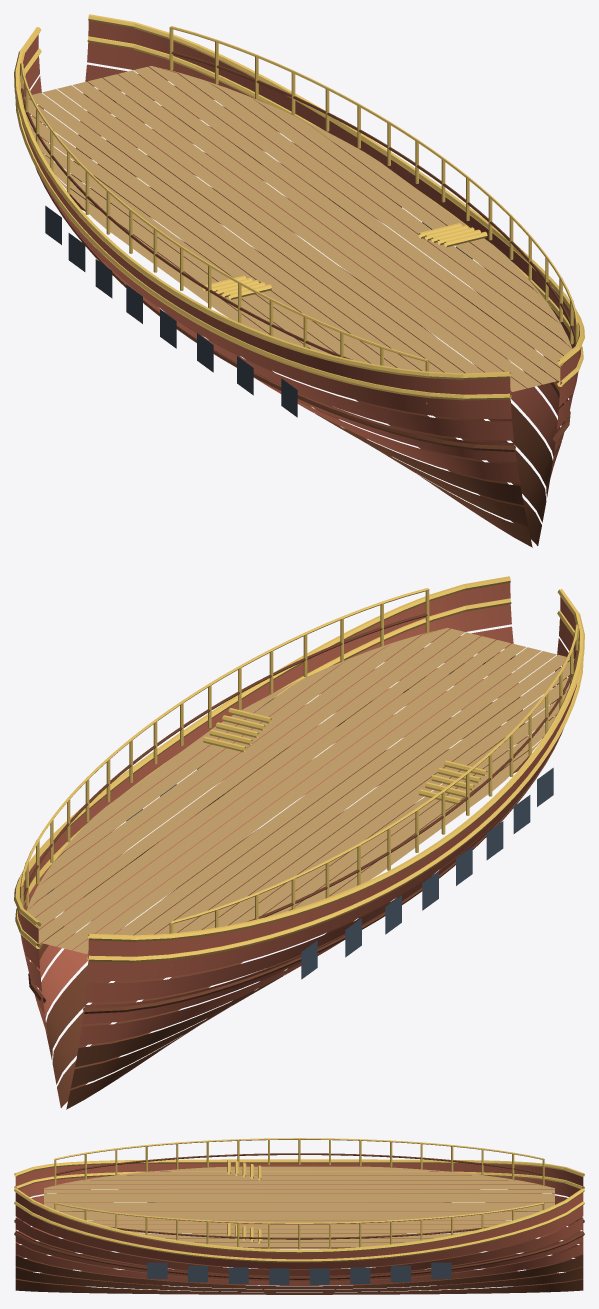
Rendered from going-merry-hull.glb.
The picture shows the model from 3 angles, top to bottom: view 1: azimuth 30°, elevation 25°; view 2: azimuth 150°, elevation 25°; view 3: azimuth 270°, elevation 25°; orthographic projection. The views are drawn at different scales.
Visible parts, largest first — view 1: hull-role-deck.017, hull-role-hull.017, hull-role-trim.017, hull-role-hullDark.017, hull-role-metal.017; view 2: hull-role-deck.017, hull-role-hull.017, hull-role-trim.017, hull-role-hullDark.017, hull-role-metal.017; view 3: hull-role-deck.017, hull-role-hull.017, hull-role-hullDark.017, hull-role-trim.017, hull-role-metal.017.
Boxes of the visible parts, x1,y1,x2,y2 form: hull-role-deck.017: [24, 66, 572, 391]; hull-role-hull.017: [21, 20, 581, 483]; hull-role-trim.017: [14, 14, 584, 403]; hull-role-hullDark.017: [21, 51, 575, 547]; hull-role-metal.017: [45, 202, 551, 417]; hull-role-deck.017: [26, 628, 574, 953]; hull-role-hull.017: [17, 582, 577, 1045]; hull-role-trim.017: [14, 576, 584, 965]; hull-role-hullDark.017: [23, 613, 577, 1109]; hull-role-metal.017: [47, 764, 553, 979]; hull-role-deck.017: [44, 1166, 554, 1247]; hull-role-hull.017: [15, 1163, 583, 1285]; hull-role-hullDark.017: [14, 1153, 584, 1294]; hull-role-trim.017: [14, 1138, 584, 1262]; hull-role-metal.017: [147, 1202, 451, 1284].
Size of the model in its own units: 12.97 by 7.23 by 34.18.
